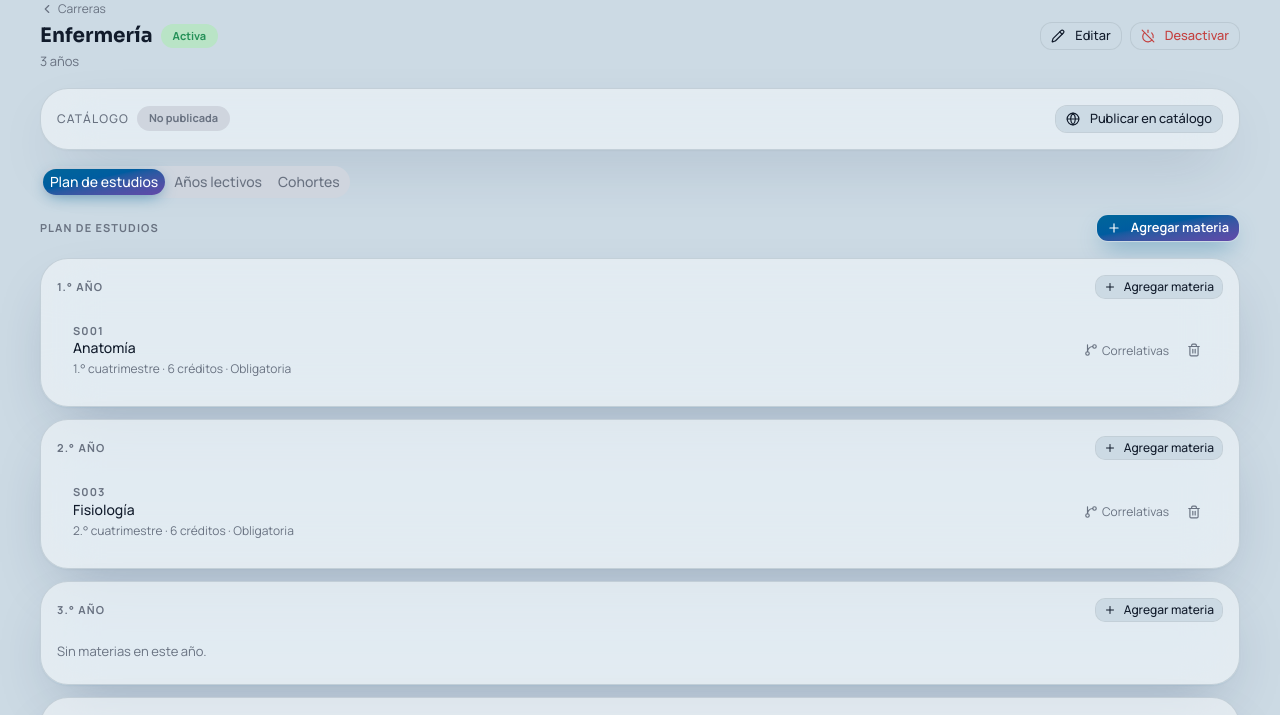
Test case: CarreraDetalle — plan de estudios › asks for the term of a mandatory subject instead of failing with a generic error
Expected: the text "Anatomía" is shown, [73,338,136,357]
Click the button "Agregar materia" in the row of "1.° año" at {"x": 1159, "y": 286}, box [1095,274,1223,298]
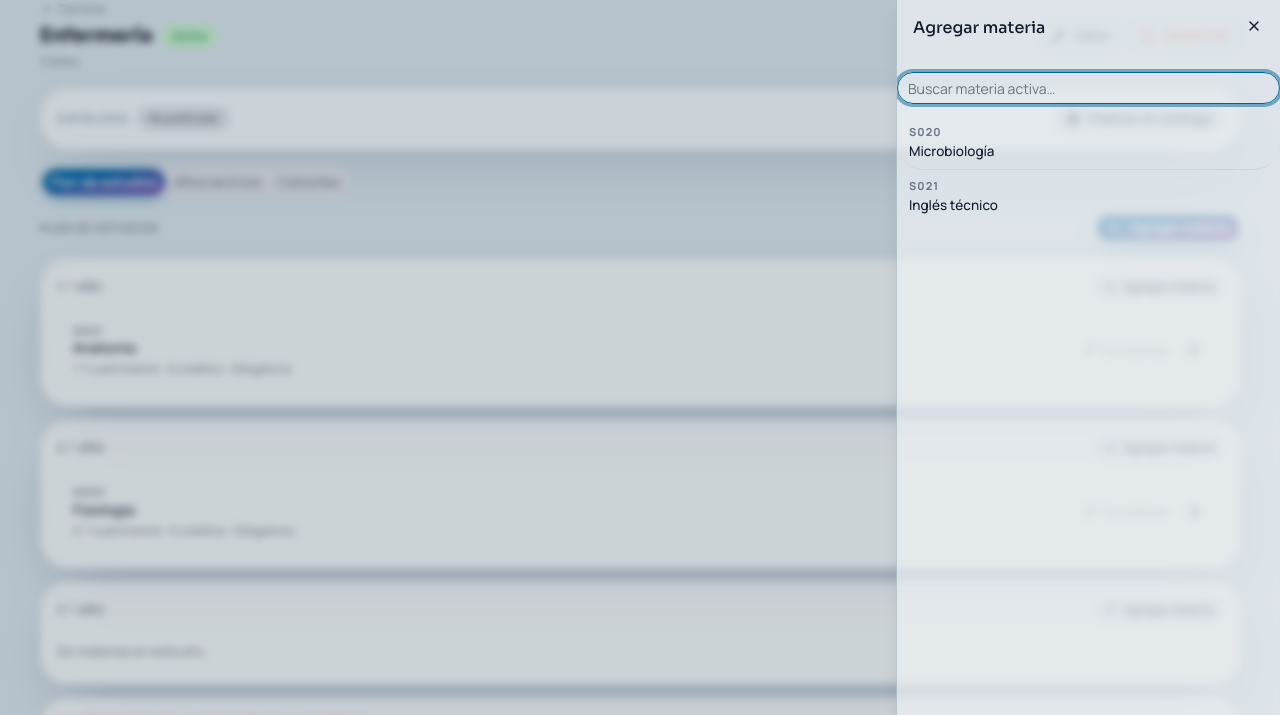
Click the button "S020 Microbiología" at {"x": 925, "y": 132}, box [897,116,1279,170]
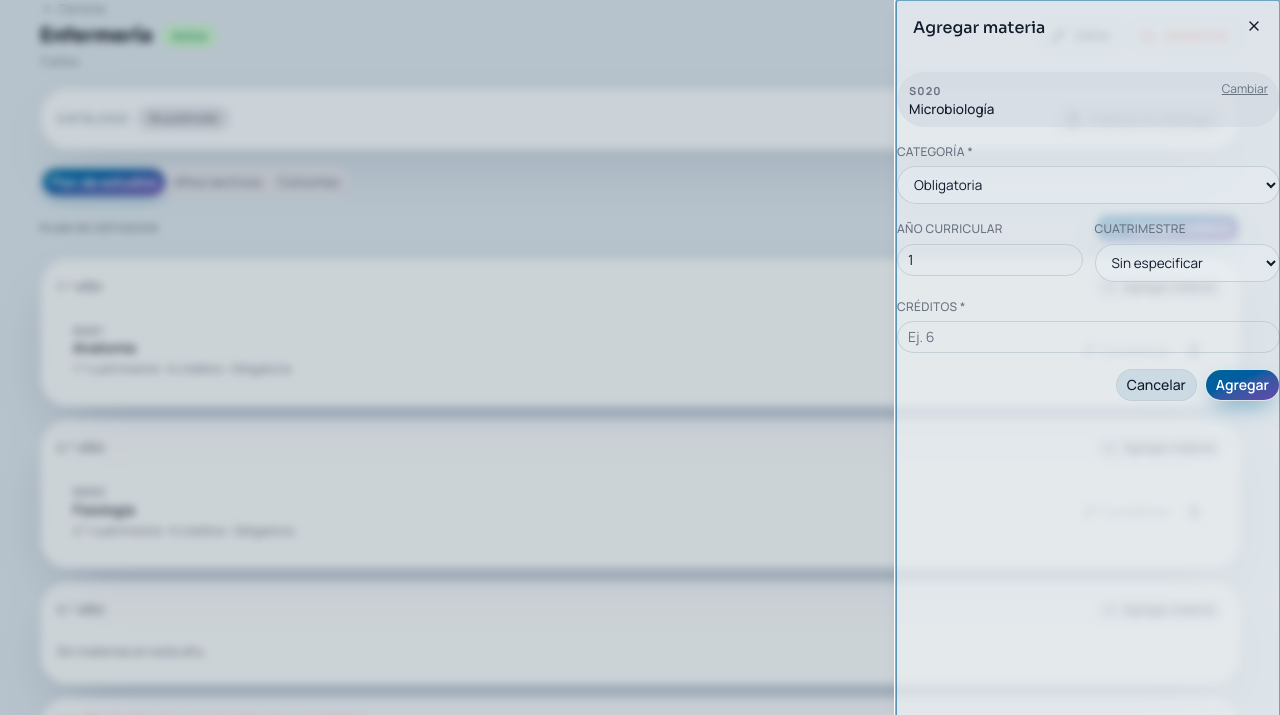
Type "6" into the number field labelled "Créditos *" at {"x": 1088, "y": 337}, box [897,321,1279,353]
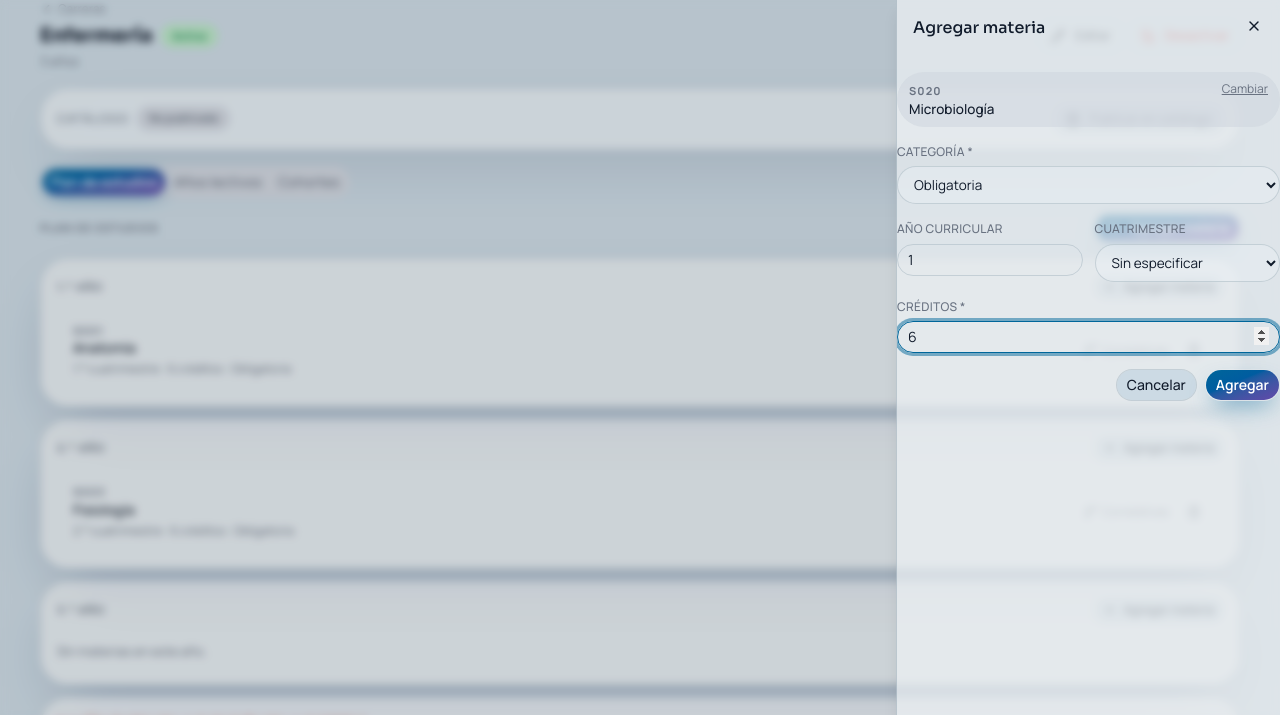
Click the button "Agregar" at {"x": 1242, "y": 385}, box [1205,369,1279,401]
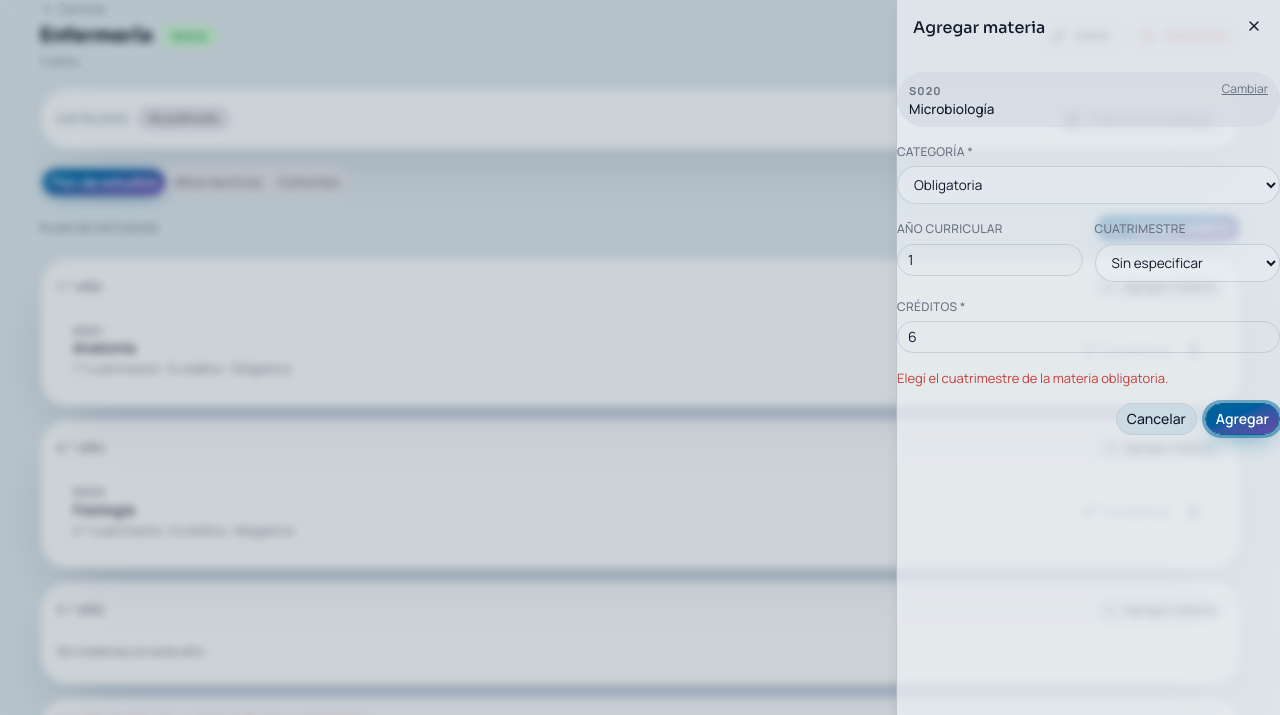
Now the text "Elegí el cuatrimestre de la materia obligatoria." is shown, box [897,369,1168,387]
